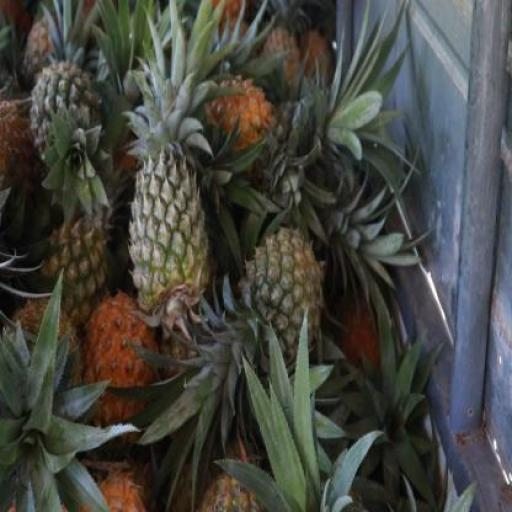Pineapple - v8 v1: (80, 289, 155, 438), (198, 74, 278, 156)
